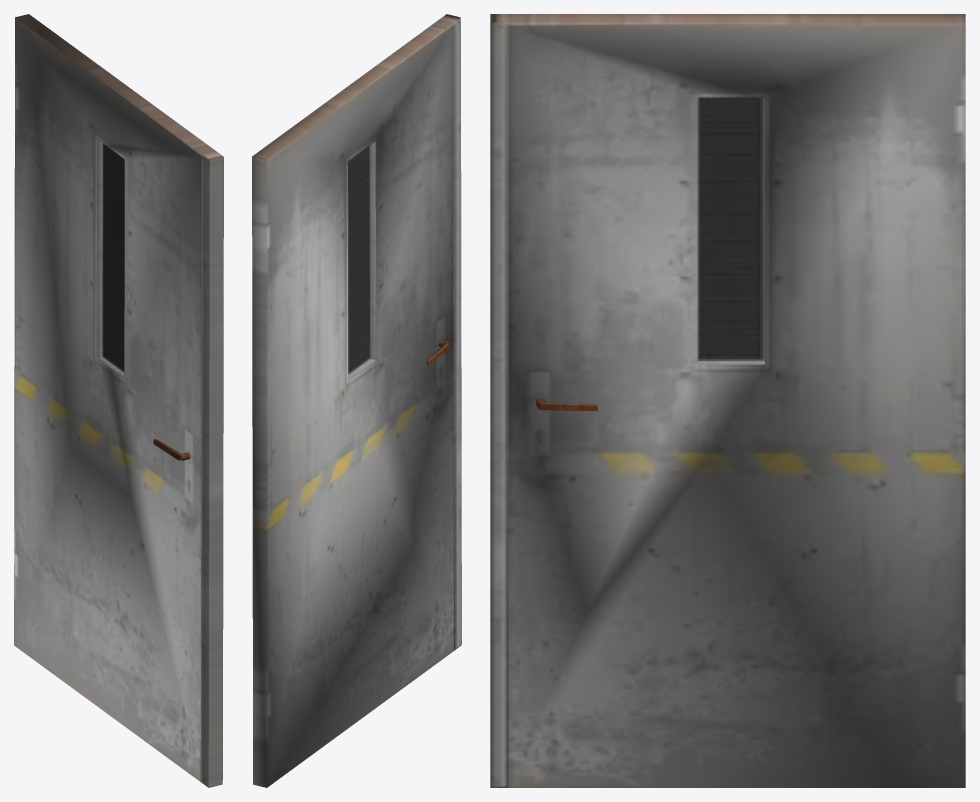
Rendered from door.hinged.nms_red.glb.
The picture shows the model from 3 angles, left to right: view 1: azimuth 30°, elevation 25°; view 2: azimuth 150°, elevation 25°; view 3: azimuth 270°, elevation 25°; orthographic projection. The views are drawn at different scales.
Parts seen in each view (by area): view 1: industrial_doors_a_a; view 2: industrial_doors_a_a; view 3: industrial_doors_a_a.
Part boxes in pixels (box(x1,y1,x2,y2)): industrial_doors_a_a: box(14, 14, 223, 787); industrial_doors_a_a: box(252, 14, 461, 787); industrial_doors_a_a: box(490, 14, 965, 787).
Size of the model in its own units: 0.1365 by 2.14 by 1.2.
Materials: 1 (1 with a texture image).
